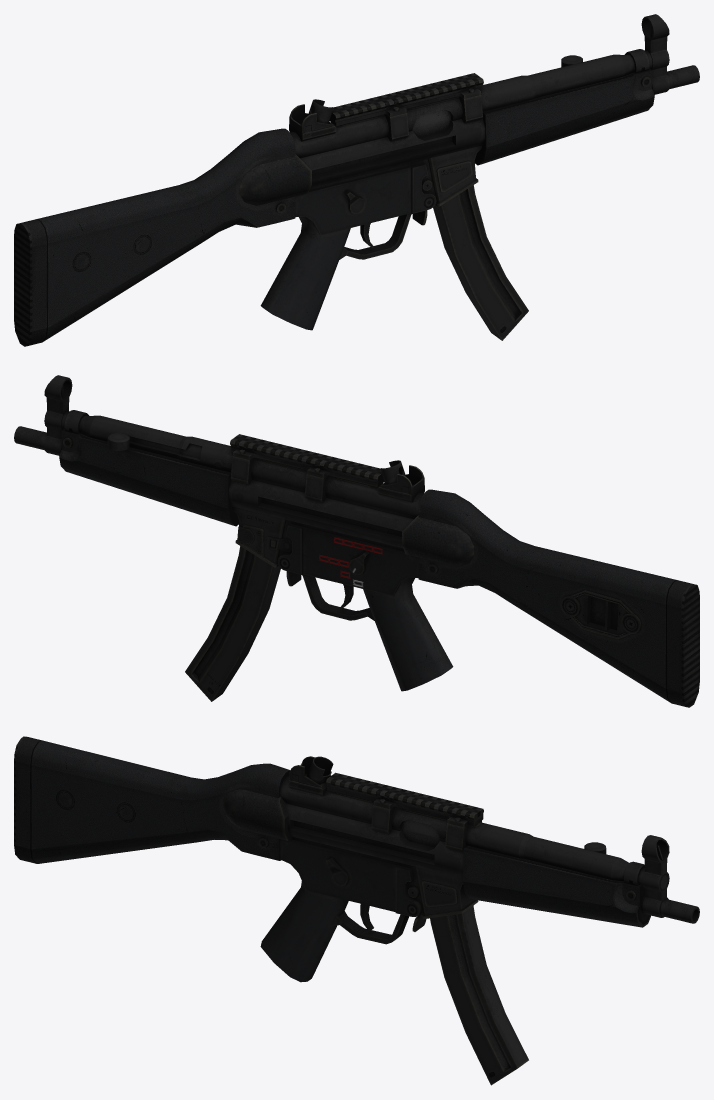
3 views of the same model, one above another, from view 1: azimuth 30°, elevation 25°; view 2: azimuth 150°, elevation 25°; view 3: azimuth 330°, elevation 25° (orthographic).
Visible parts, largest first — view 1: MP5; view 2: MP5; view 3: MP5.
Boxes of the visible parts, left/top/right/bottom form: MP5: left=14, top=14, right=699, bottom=346; MP5: left=14, top=375, right=699, bottom=707; MP5: left=14, top=736, right=699, bottom=1085.
Size of the model in its own units: 673 by 270 by 52.79.
1 material, 1 textured.
